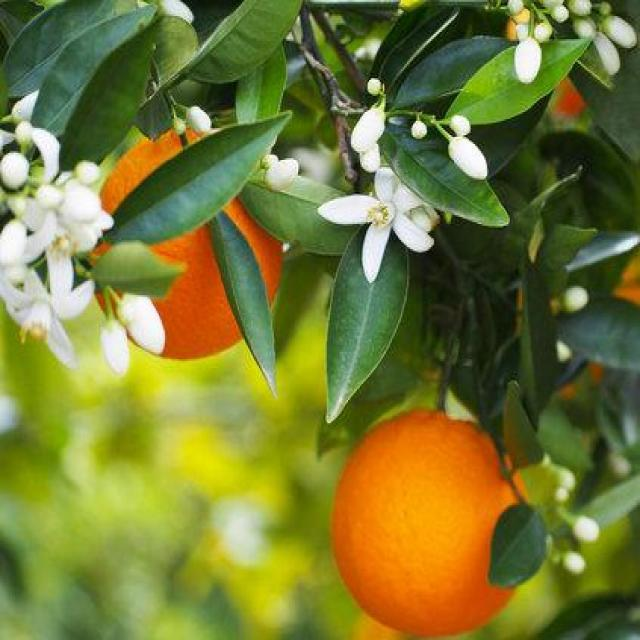Bunga: (319, 164, 436, 274), (5, 270, 96, 366), (18, 201, 97, 286), (0, 94, 67, 183), (116, 290, 166, 356), (100, 320, 132, 377), (450, 140, 490, 180), (348, 106, 384, 150), (64, 185, 102, 222), (513, 41, 542, 84), (591, 34, 622, 74), (600, 16, 638, 46), (266, 160, 300, 192), (1, 152, 28, 188), (184, 103, 212, 133), (558, 284, 587, 312), (572, 516, 601, 544), (358, 144, 382, 172), (76, 160, 102, 183), (36, 183, 62, 203), (561, 552, 587, 572), (574, 20, 594, 40), (568, 0, 592, 16), (449, 118, 472, 134), (555, 338, 569, 361), (364, 78, 380, 98), (551, 6, 569, 22), (260, 152, 278, 166), (176, 117, 190, 135), (413, 121, 427, 137), (537, 25, 551, 41), (516, 24, 528, 36), (510, 4, 522, 15)
Jeruk Sudah Matang: (102, 124, 284, 356), (338, 412, 530, 628)
